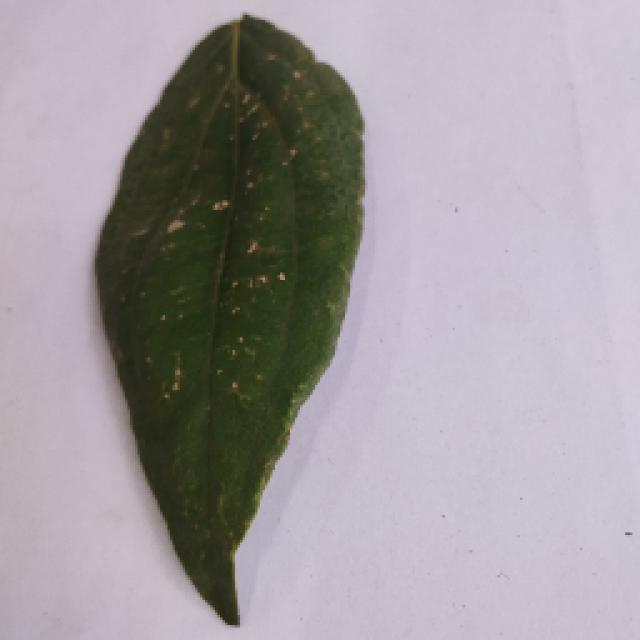pollu-disease: (33, 23, 405, 625)
